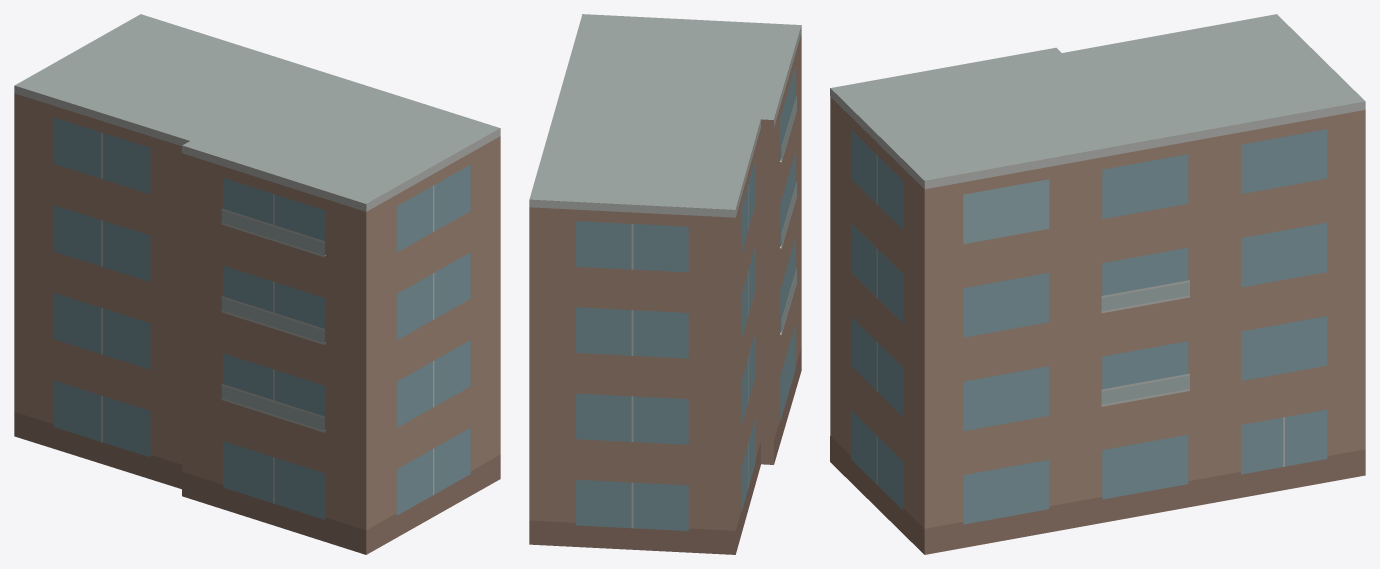
File: survey-upis-32624581.glb
3 renders of one model, left to right at view 1: azimuth 30°, elevation 25°; view 2: azimuth 150°, elevation 25°; view 3: azimuth 270°, elevation 25°, orthographic. The views are drawn at different scales.
Visible parts, largest first — view 1: survey-upis-32624581.tmp; view 2: survey-upis-32624581.tmp; view 3: survey-upis-32624581.tmp.
Boxes of the visible parts, x1,y1,x2,y2 form: survey-upis-32624581.tmp: [14, 14, 500, 554]; survey-upis-32624581.tmp: [529, 14, 801, 554]; survey-upis-32624581.tmp: [830, 14, 1365, 554].
Size of the model in its own units: 10.45 by 10.9 by 14.15.
